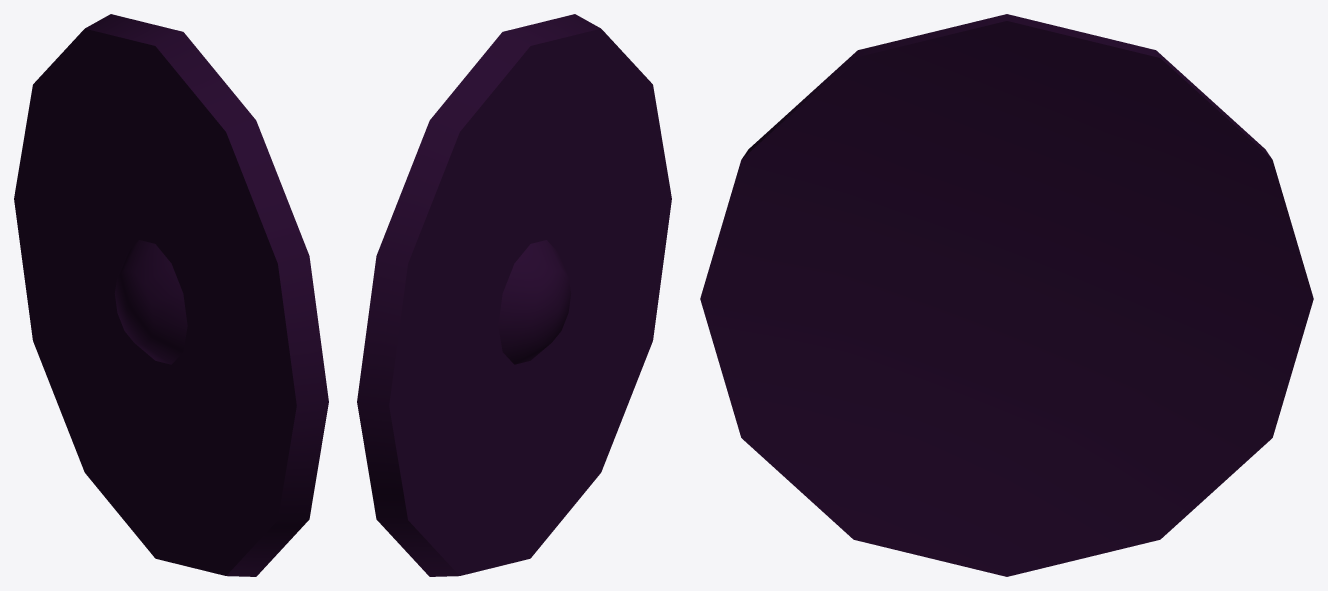
Rendered from shield12_4bb35a0f.glb.
3 views of the same model, side by side, from view 1: azimuth 30°, elevation 25°; view 2: azimuth 150°, elevation 25°; view 3: azimuth 270°, elevation 25° (orthographic). The views are drawn at different scales.
Size of the model in its own units: 0.1075 by 0.954 by 0.954.
1 material, 1 textured.
